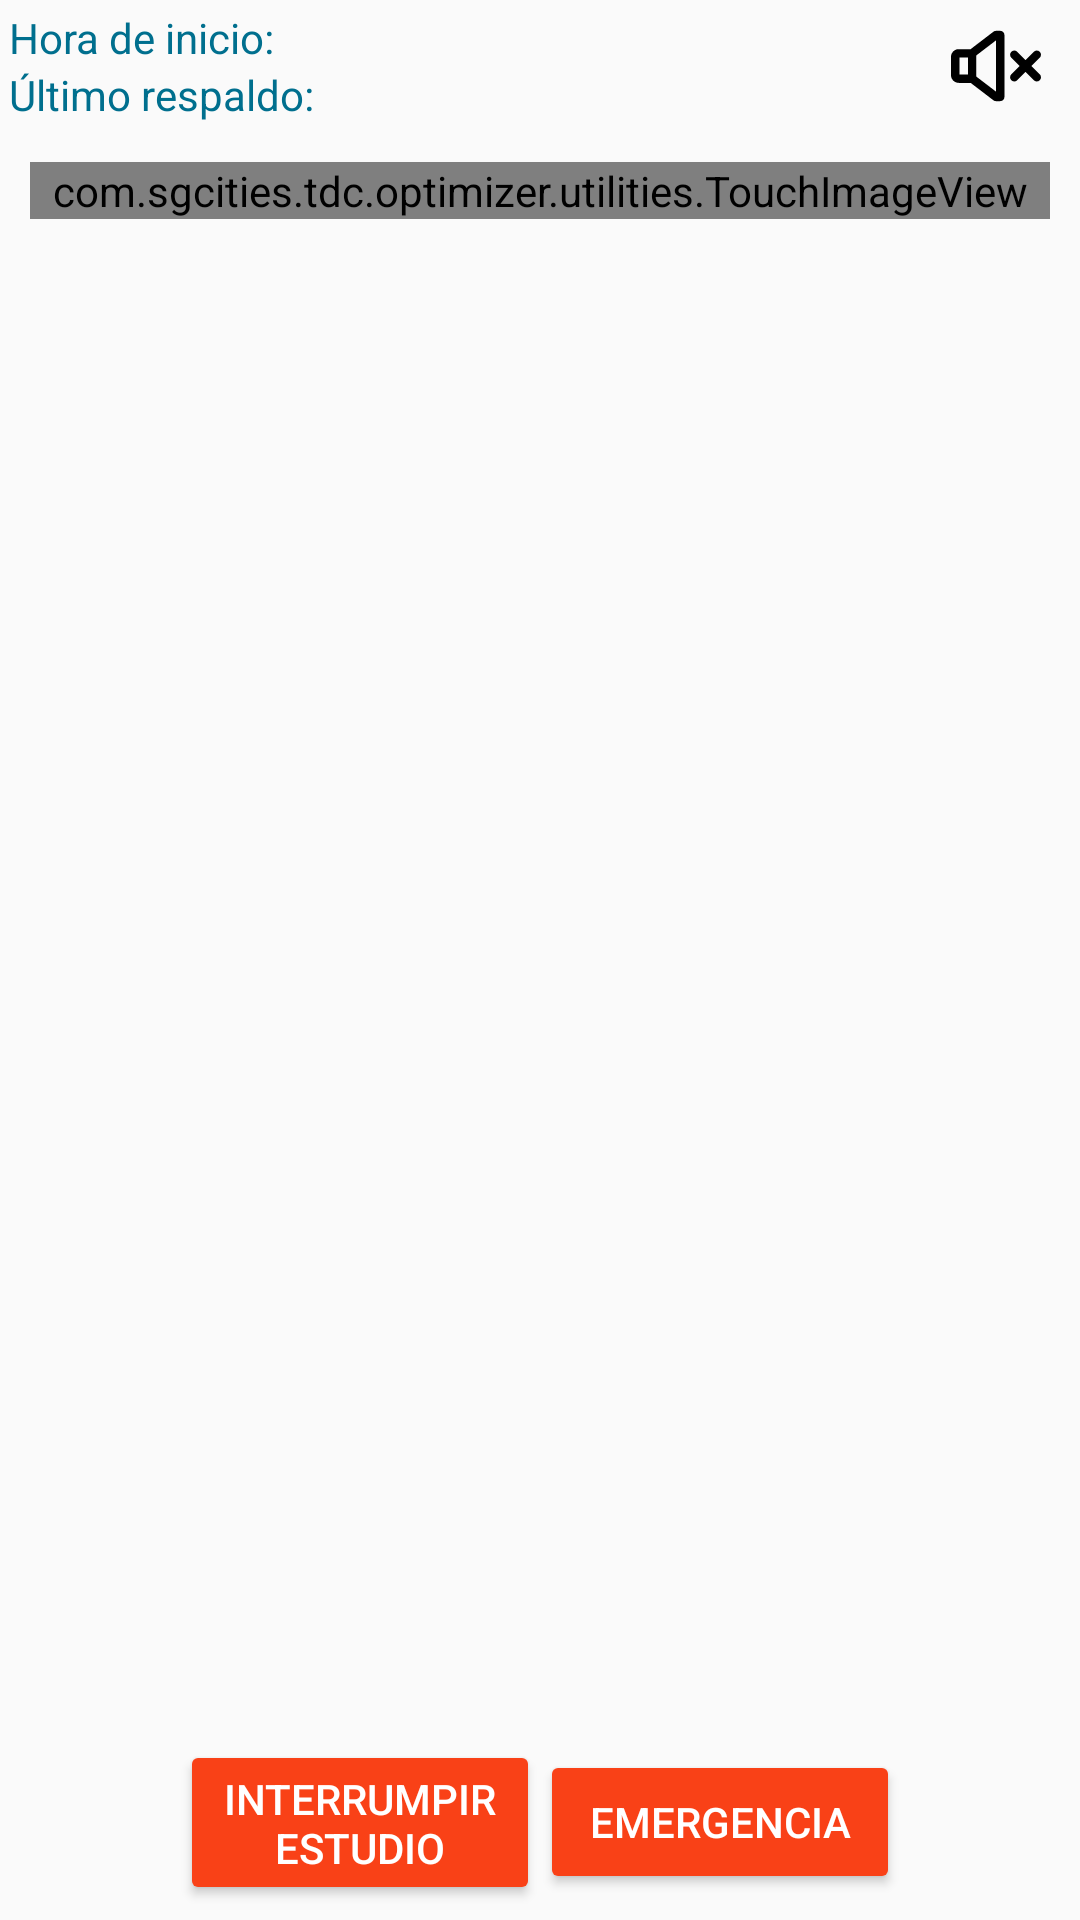

Screen size 1080 x 1920. Icon name, then its box in pixels as bbox=(x1, y1, x2, y2):
no sound: bbox=(951, 30, 1041, 102)
